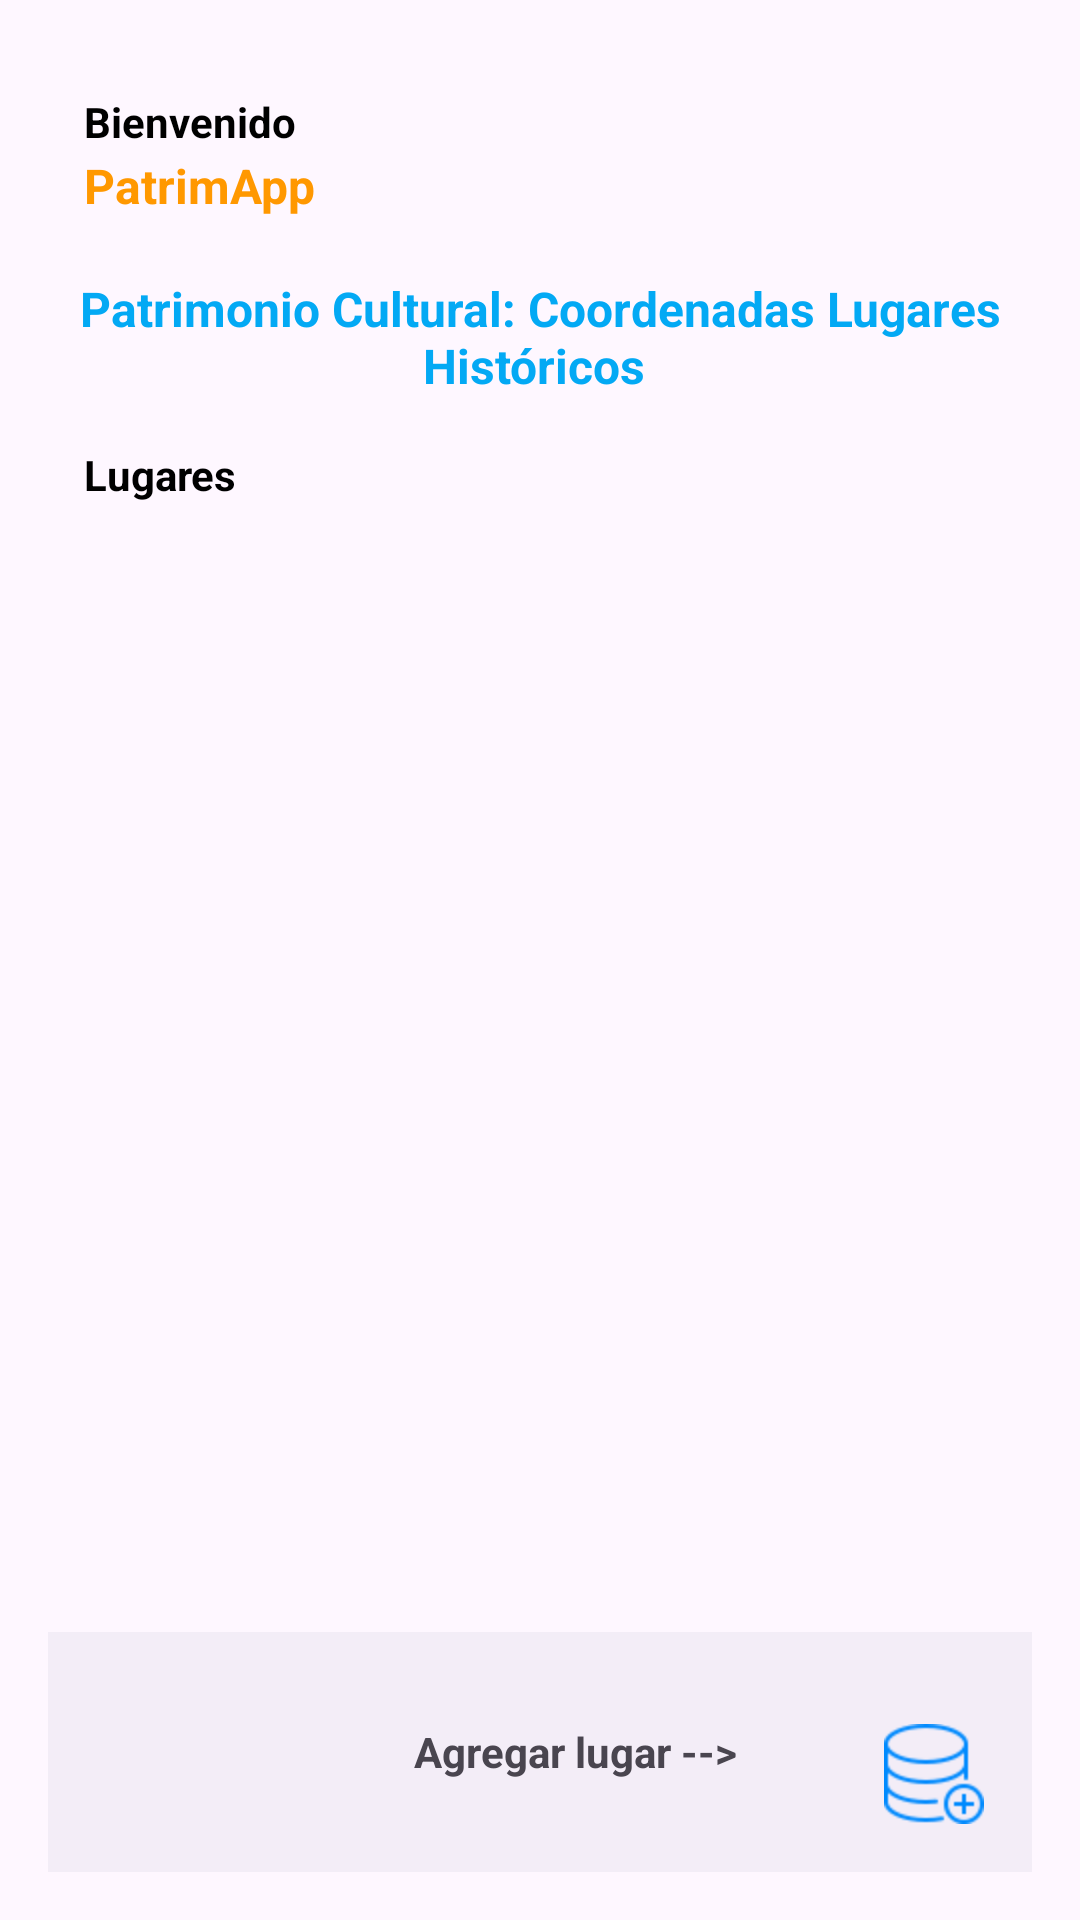

Named icons in this screenshot (1080 × 1920) and their centers, point (x, y):
Add: point (934, 1774)
